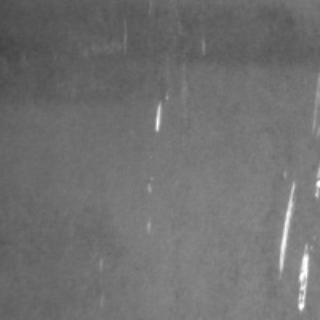scratches: (275, 174, 313, 314), (150, 90, 174, 136)
